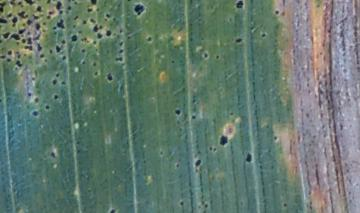tarspot: (133, 3, 145, 17), (17, 9, 29, 19), (219, 135, 229, 146), (57, 19, 65, 30), (245, 153, 253, 163), (93, 24, 103, 32), (194, 159, 202, 168), (11, 33, 20, 41), (2, 31, 10, 40), (236, 1, 244, 9), (33, 33, 41, 41), (15, 59, 23, 67), (202, 50, 209, 59), (34, 22, 41, 31), (24, 45, 33, 52), (107, 72, 113, 82), (7, 1, 17, 7), (49, 151, 57, 158), (31, 110, 39, 117), (55, 45, 62, 53), (12, 16, 17, 27), (1, 1, 6, 12), (16, 49, 22, 58), (178, 199, 185, 206), (174, 108, 181, 115), (169, 58, 176, 65), (60, 79, 67, 86), (1, 18, 8, 25), (272, 134, 278, 142), (115, 56, 123, 62), (52, 78, 58, 86), (19, 28, 27, 34), (56, 1, 62, 9), (234, 38, 243, 43), (108, 208, 117, 213), (274, 9, 280, 16), (228, 110, 234, 117), (175, 162, 181, 169), (158, 149, 164, 156), (190, 114, 197, 120), (117, 28, 124, 34), (53, 93, 59, 100), (106, 30, 112, 37), (33, 14, 40, 20), (36, 5, 42, 12), (7, 49, 13, 56), (27, 19, 33, 26), (89, 18, 96, 24), (37, 44, 42, 52), (214, 54, 220, 60), (282, 202, 288, 208), (118, 48, 124, 54), (34, 97, 40, 103), (97, 33, 103, 39), (18, 1, 24, 7), (71, 35, 77, 41), (92, 61, 97, 68), (27, 37, 32, 44), (81, 37, 88, 42), (208, 145, 213, 151), (45, 104, 50, 110), (147, 36, 152, 42), (119, 41, 124, 47), (80, 48, 86, 53), (81, 59, 86, 65), (25, 1, 35, 4), (8, 12, 13, 18), (21, 38, 26, 44), (49, 10, 55, 15), (86, 8, 92, 13), (74, 15, 79, 21), (105, 13, 111, 18), (261, 33, 266, 38), (27, 92, 32, 97), (55, 73, 60, 78), (7, 58, 12, 63), (61, 39, 66, 44), (67, 6, 72, 11), (204, 203, 208, 209), (60, 9, 64, 15), (49, 48, 53, 54), (76, 30, 82, 34), (213, 147, 217, 152), (93, 40, 97, 45), (62, 55, 66, 60), (40, 54, 45, 58), (1, 55, 6, 59), (27, 30, 31, 35), (46, 15, 51, 19), (83, 20, 87, 25), (71, 25, 76, 29), (113, 17, 117, 22), (96, 7, 100, 12), (21, 33, 25, 38), (95, 70, 98, 76), (1, 38, 4, 44), (46, 1, 52, 4), (91, 1, 97, 4), (44, 59, 48, 63), (31, 77, 36, 80), (17, 41, 20, 46), (23, 23, 27, 26), (43, 29, 47, 32), (43, 23, 47, 26), (54, 26, 57, 30), (74, 2, 78, 5), (68, 1, 73, 3), (104, 19, 109, 21), (127, 1, 132, 3), (128, 37, 131, 40)
